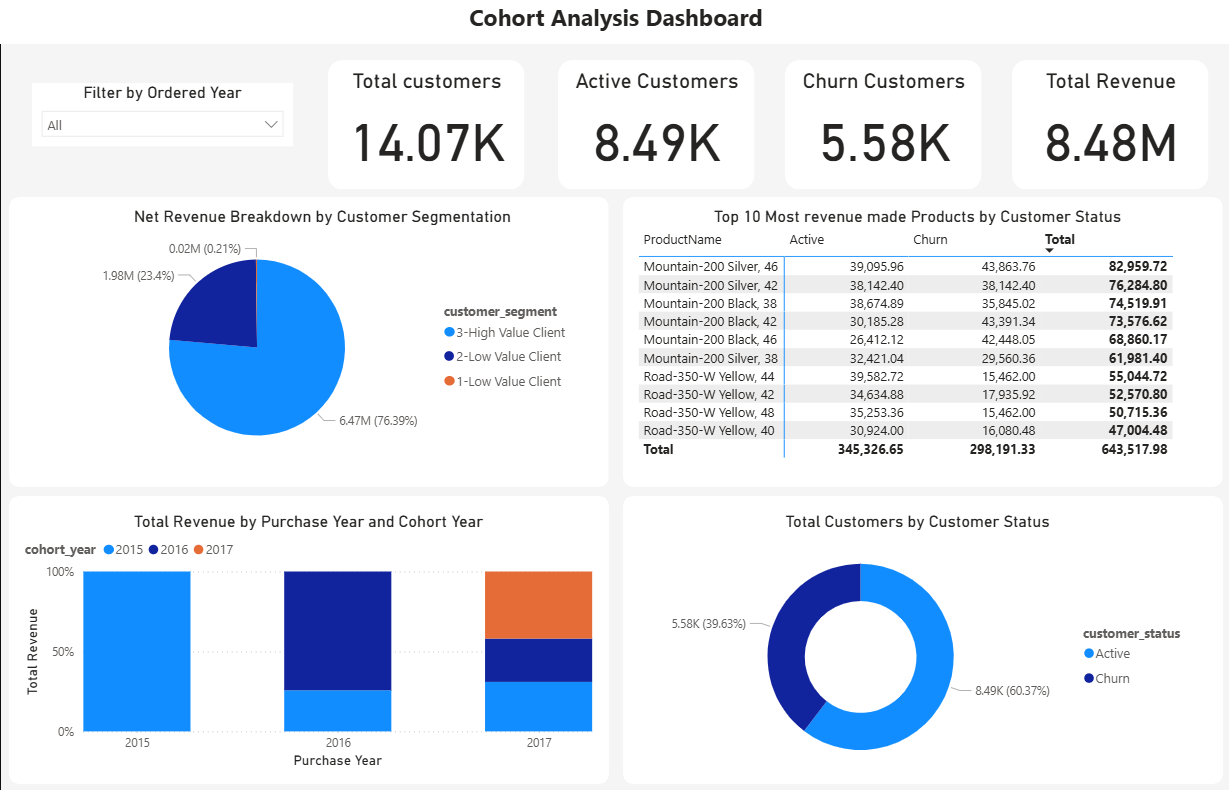

Layout of this report page (visuals, bound fields, positions):
{"tool":"powerbi","page":{"name":"Page 1","canvas":[1283,830],"ordinal":0},"visuals":[{"type":"shape","box":[649,520.8,625,300],"z":0},{"type":"shape","box":[9.4,520.8,625,300],"z":1000},{"type":"shape","box":[9.4,209.4,625,302.1],"z":2000},{"type":"shape","box":[649,209.4,625,302.1],"z":3000},{"type":"textbox","box":[0,0,1283.3,50],"z":4000},{"type":"shape","box":[1054.2,66.7,205.2,135.4],"z":5000},{"type":"shape","box":[341.7,66.7,205.2,135.4],"z":6000},{"type":"shape","box":[581.2,66.7,205.2,135.4],"z":7000},{"type":"shape","box":[817.7,66.7,205.2,135.4],"z":8000},{"type":"donutChart","title":"Total Customers by Customer Status","fields":{"Category":["churndate.customer_status"],"Y":["CountNonNull(churndate.CustomerKey)"]},"box":[660.4,537.5,590.6,283.3],"z":9000},{"type":"hundredPercentStackedColumnChart","title":"Total Revenue by Purchase Year and Cohort Year","fields":{"Series":["cohort_analysis.cohort_year"],"Y":["Sum(cohort_analysis.total_revenue)"],"Category":["cohort_analysis.purchase_year"]},"box":[20.8,537.5,601,271.9],"z":10000},{"type":"pieChart","title":"Net Revenue Breakdown by Customer Segmentation","fields":{"Category":["customer_segmentation.customer_segment"],"Y":["Sum(customer_segmentation.netrevenue)"]},"box":[68.8,219.8,534.4,274],"z":11000},{"type":"pivotTable","title":"Top 10 Most revenue made Products by Customer Status","fields":{"Values":["Sum(churndate.revenue)"],"Rows":["churndate.ProductName"],"Columns":["churndate.customer_status"]},"box":[660.4,219.8,590.6,274],"z":12000},{"type":"card","title":"Total Revenue","fields":{"Values":["Sum(cohort_analysis.total_revenue)"]},"box":[1063.5,76,187.5,115.6],"z":13000},{"type":"card","title":"Active Customers","fields":{"Values":["churndate.active_customers"]},"box":[590.6,76,187.5,115.6],"z":14000},{"type":"card","title":"Churn Customers","fields":{"Values":["churndate.Churn customers"]},"box":[827.1,76,187.5,115.6],"z":15000},{"type":"card","title":"Total customers","fields":{"Values":["CountNonNull(churndate.CustomerKey)"]},"box":[351,76,187.5,115.6],"z":16000},{"type":"slicer","title":"Filter by Ordered Year","fields":{"Values":["churndate.Year of Ordered Date"]},"box":[33.3,90.6,271.9,65.6],"z":16001}]}

Visuals, with their boxes in screenshot pixels (x1, y1, x2, y2), scaled from the page's 1283x830 canvas onto the 1229x790 screenshot:
shape: left=622, top=496, right=1220, bottom=781
shape: left=9, top=496, right=608, bottom=781
shape: left=9, top=199, right=608, bottom=487
shape: left=622, top=199, right=1220, bottom=487
textbox: left=0, top=0, right=1228, bottom=48
shape: left=1010, top=63, right=1206, bottom=192
shape: left=327, top=63, right=524, bottom=192
shape: left=557, top=63, right=753, bottom=192
shape: left=783, top=63, right=980, bottom=192
"Total Customers by Customer Status" donutChart: left=633, top=512, right=1198, bottom=781
"Total Revenue by Purchase Year and Cohort Year" hundredPercentStackedColumnChart: left=20, top=512, right=596, bottom=770
"Net Revenue Breakdown by Customer Segmentation" pieChart: left=66, top=209, right=578, bottom=470
"Top 10 Most revenue made Products by Customer Status" pivotTable: left=633, top=209, right=1198, bottom=470
"Total Revenue" card: left=1019, top=72, right=1198, bottom=182
"Active Customers" card: left=566, top=72, right=745, bottom=182
"Churn Customers" card: left=792, top=72, right=972, bottom=182
"Total customers" card: left=336, top=72, right=516, bottom=182
"Filter by Ordered Year" slicer: left=32, top=86, right=292, bottom=149
